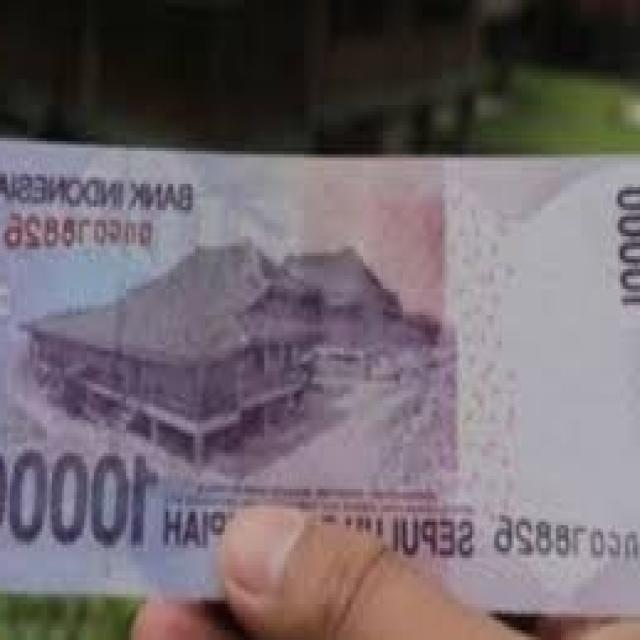sepuluh ribu rupiah: (5, 138, 640, 610)
